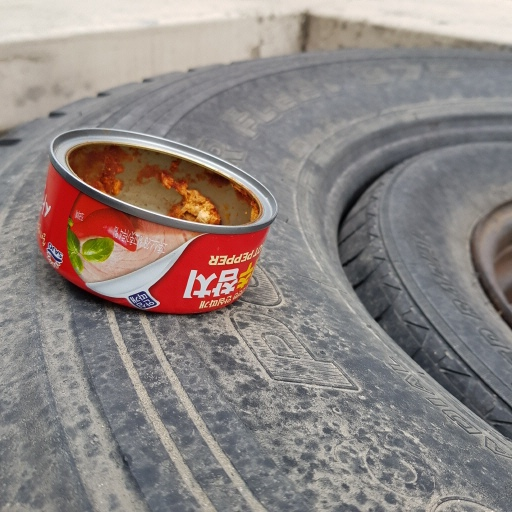Metal_1: (34, 124, 279, 311)
